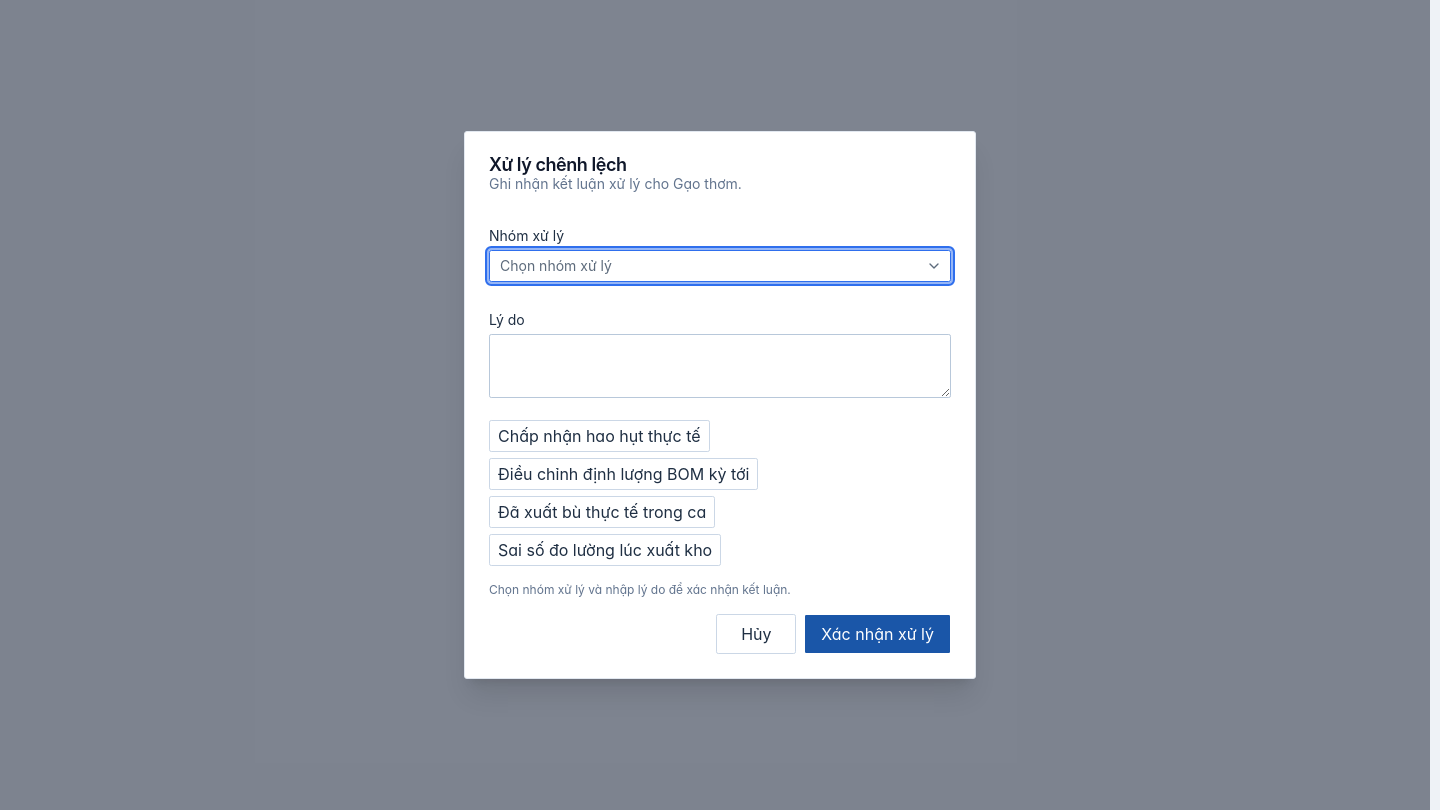
Test case: keeps validation submission available and focuses the first invalid owner
Step 1. Click the button "Xác nhận xử lý" → (878, 634), box [804,614,951,654]
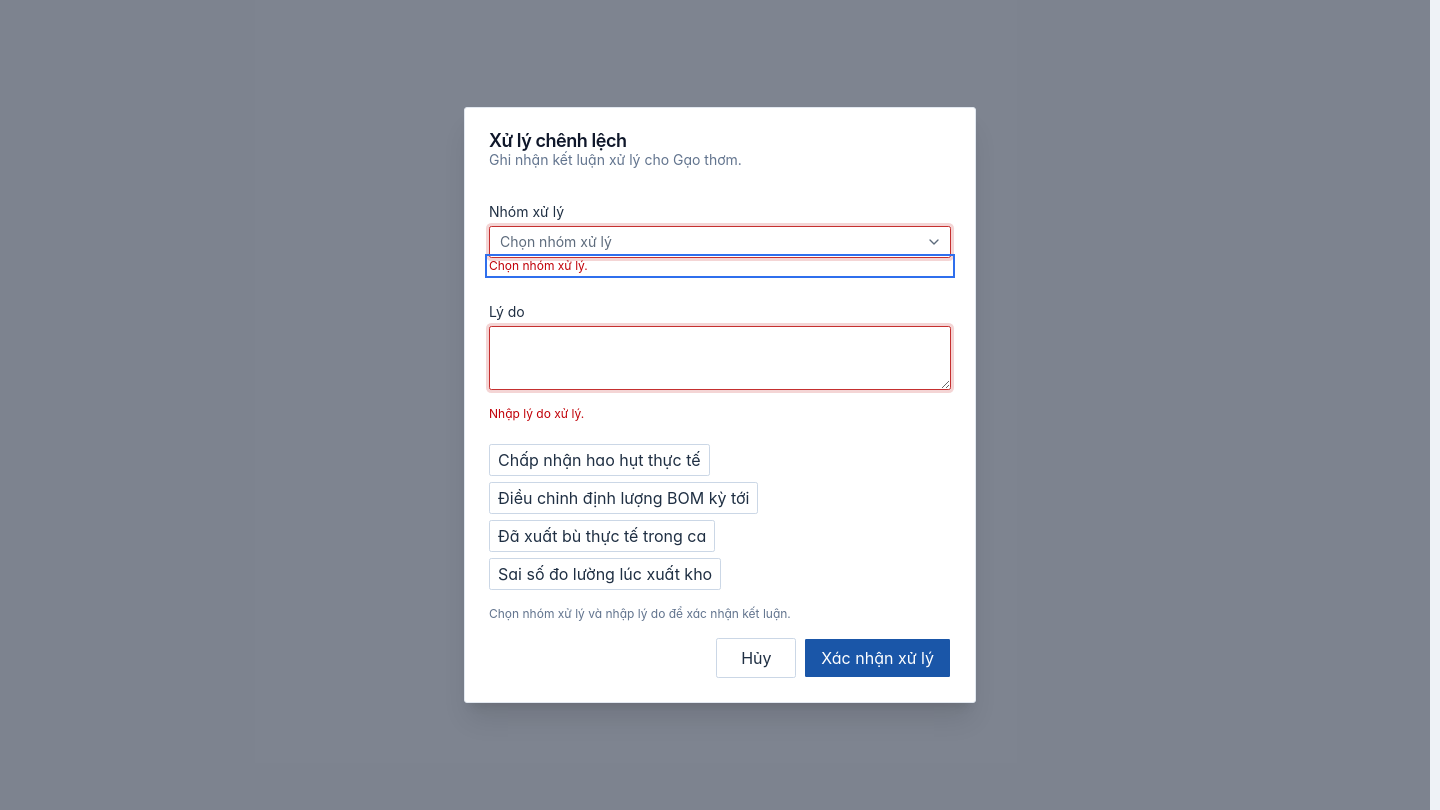
Expected: the button "Chấp nhận hao hụt thực tế" is shown, [489,444,710,476]
Expected: the text "Chọn nhóm xử lý." is shown, [489,258,588,273]
Expected: the text "Nhập lý do xử lý." is shown, [489,406,584,421]
